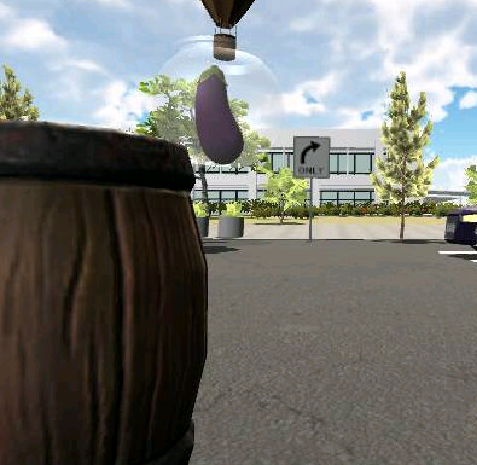arrow_right: (298, 138, 326, 165)
